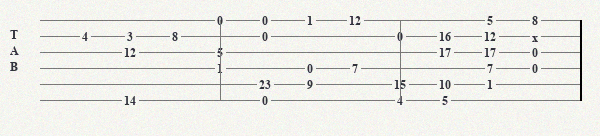0: (217, 14, 227, 27), (262, 94, 272, 107), (262, 14, 272, 27), (262, 30, 272, 43), (307, 62, 317, 75), (397, 30, 407, 43), (532, 46, 542, 59), (532, 62, 542, 75)
1: (217, 62, 227, 75), (307, 14, 317, 27), (487, 78, 497, 91)
10: (439, 78, 455, 91)
12: (124, 46, 140, 59), (349, 14, 365, 27), (484, 30, 500, 43)
14: (124, 94, 140, 107)
15: (394, 78, 410, 91)
16: (439, 30, 455, 43)
17: (439, 46, 455, 59), (484, 46, 500, 59)
23: (259, 78, 275, 91)
3: (127, 30, 137, 43)
4: (82, 30, 92, 43), (397, 94, 407, 107)
5: (217, 46, 227, 59), (442, 94, 452, 107), (487, 14, 497, 27)
7: (352, 62, 362, 75), (487, 62, 497, 75)
8: (172, 30, 182, 43), (532, 14, 542, 27)
9: (307, 78, 317, 91)
x: (532, 31, 542, 41)
